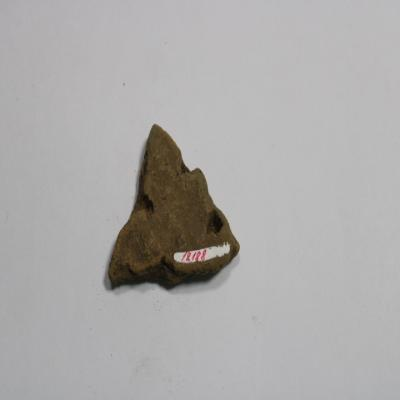archeology: (105, 125, 241, 292)
